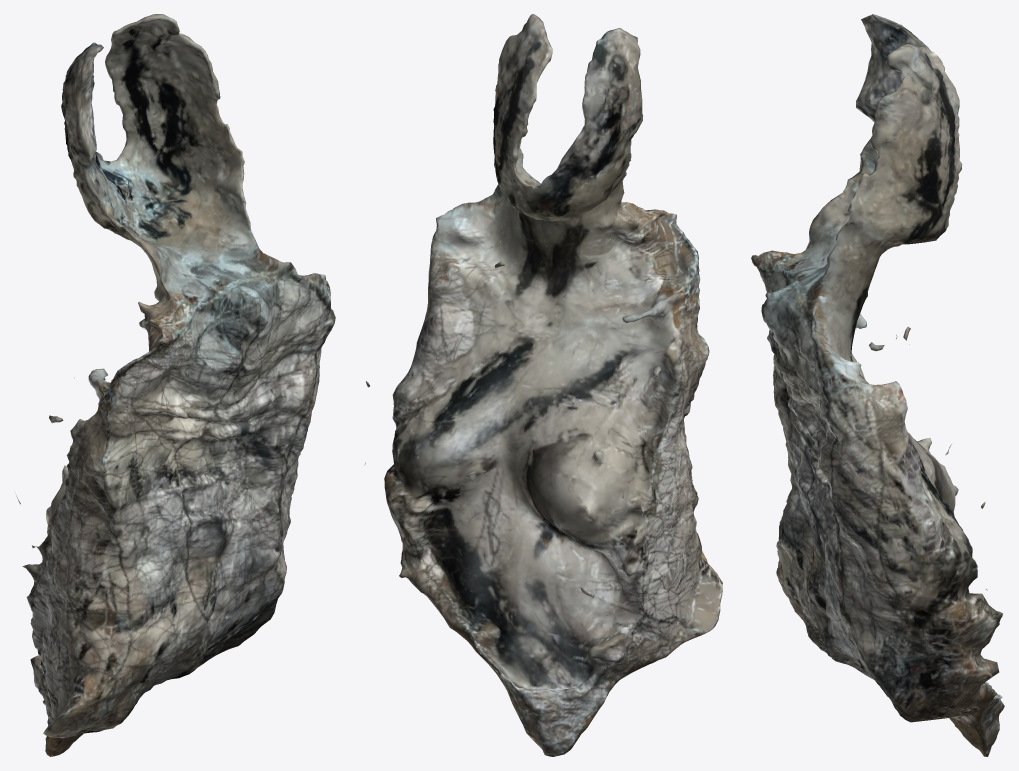
3 renders of one model, left to right at view 1: azimuth 30°, elevation 25°; view 2: azimuth 150°, elevation 25°; view 3: azimuth 270°, elevation 25°, orthographic. The views are drawn at different scales.
Parts seen in each view (by area): view 1: 3DModel; view 2: 3DModel; view 3: 3DModel.
Part boxes in pixels (x1,y1,x2,y2): 3DModel: [16, 14, 335, 756]; 3DModel: [364, 14, 722, 756]; 3DModel: [751, 14, 1004, 756].
Size of the model in its own units: 0.2987 by 0.7241 by 0.2257.
Materials: 1 (1 with a texture image).
